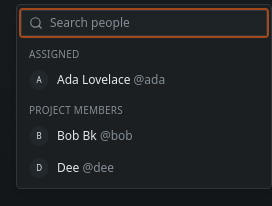
Test: AssigneeMenu › shows the empty state when nothing matches
The image size is (272, 206).
Type "zzz" into the field with test id "assignee-search" at [144, 23], box [21, 10, 267, 36]
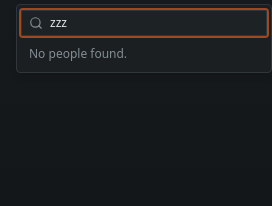
expect the text "No people found." is shown: met, box [29, 45, 127, 62]
